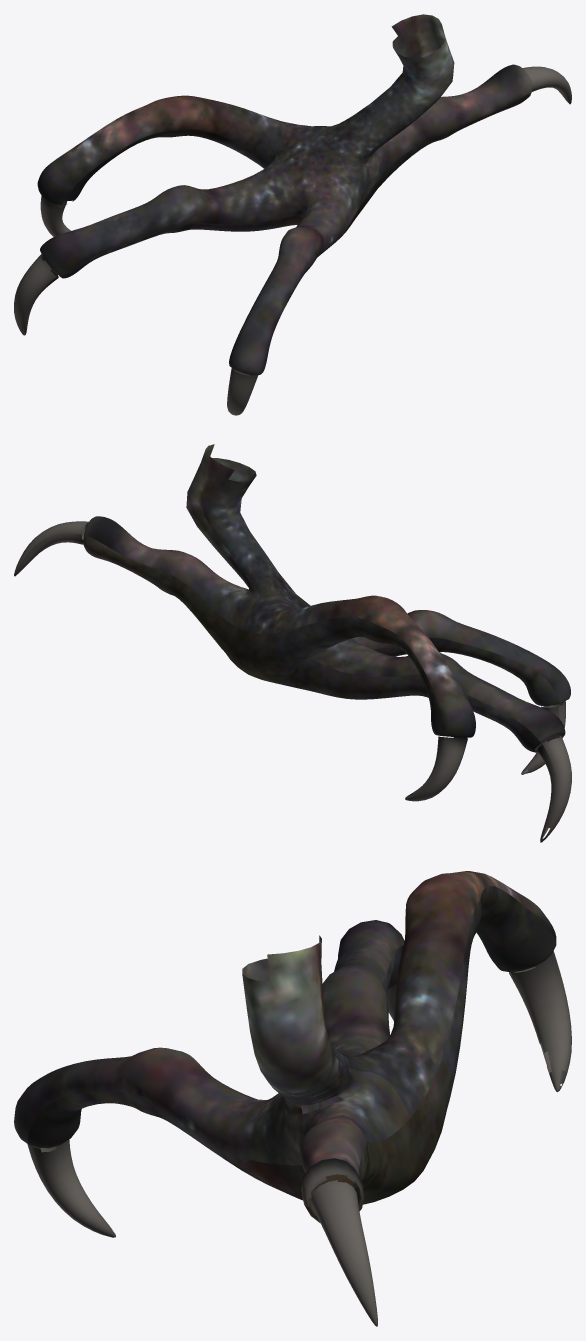
3 renders of one model, top to bottom at view 1: azimuth 30°, elevation 25°; view 2: azimuth 150°, elevation 25°; view 3: azimuth 270°, elevation 25°, orthographic. The views are drawn at different scales.
Visible parts, largest first — view 1: 12212_Bird_v1_l2.002; view 2: 12212_Bird_v1_l2.002; view 3: 12212_Bird_v1_l2.002.
Boxes of the visible parts, x1,y1,x2,y2 form: 12212_Bird_v1_l2.002: (14, 14, 571, 415); 12212_Bird_v1_l2.002: (14, 444, 571, 842); 12212_Bird_v1_l2.002: (14, 871, 571, 1326).
Size of the model in its own units: 1.42 by 0.7303 by 0.7493.
Materials: 1 (1 with a texture image).
